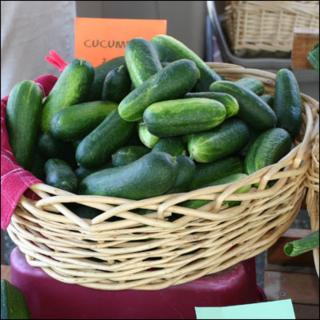Cucumber: (7, 34, 297, 225), (76, 102, 134, 166), (0, 278, 27, 319), (283, 230, 319, 255)
